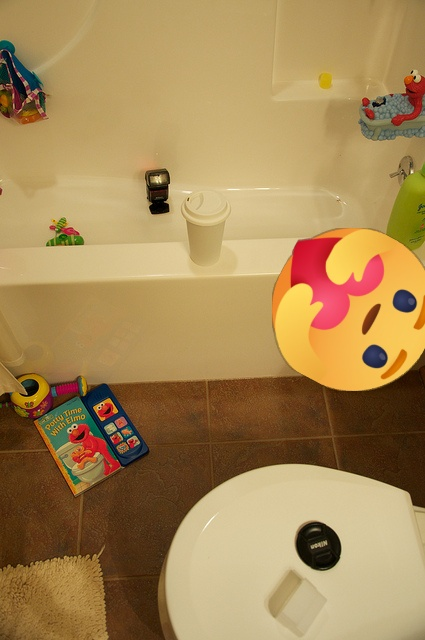care: (272, 228, 425, 391)
